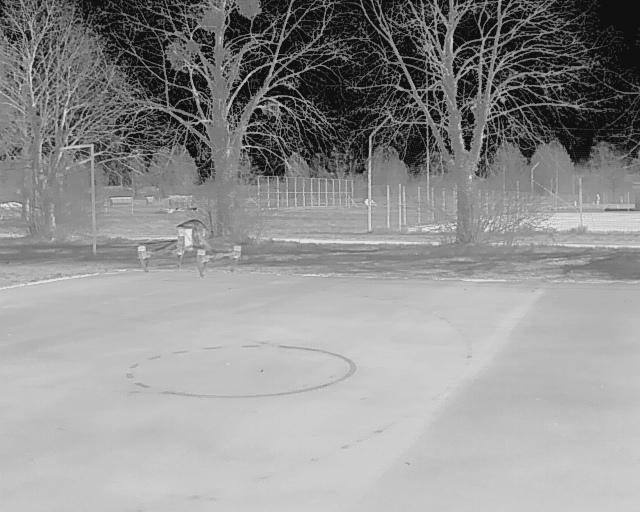drone: (117, 211, 258, 286)
